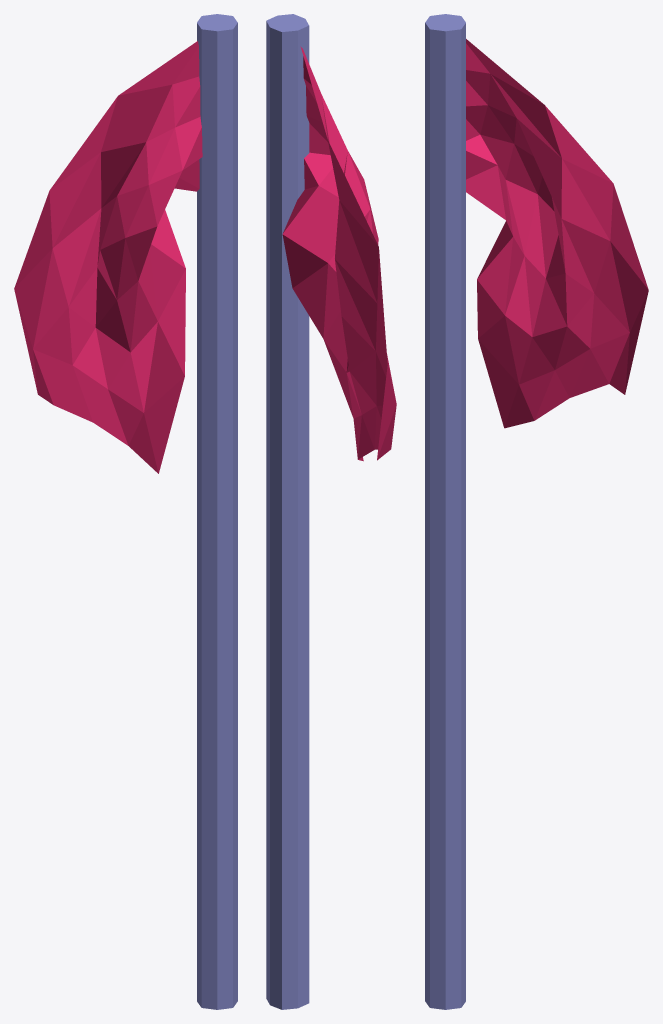
Rendered from Flag2.fbx.
3 renders of one model, left to right at view 1: azimuth 90°, elevation 25°; view 2: azimuth 210°, elevation 25°; view 3: azimuth 270°, elevation 25°, orthographic.
Visible parts, largest first — view 1: Plane.001, Plane; view 2: Plane, Plane.001; view 3: Plane.001, Plane.
Boxes of the visible parts, bbox=[...] form: Plane.001: bbox=[14, 41, 202, 473]; Plane: bbox=[197, 14, 237, 1009]; Plane: bbox=[266, 14, 309, 1009]; Plane.001: bbox=[282, 46, 396, 461]; Plane.001: bbox=[466, 39, 648, 428]; Plane: bbox=[425, 14, 465, 1009].
Size of the model in its own units: 0.4529 by 5.08 by 1.05.
